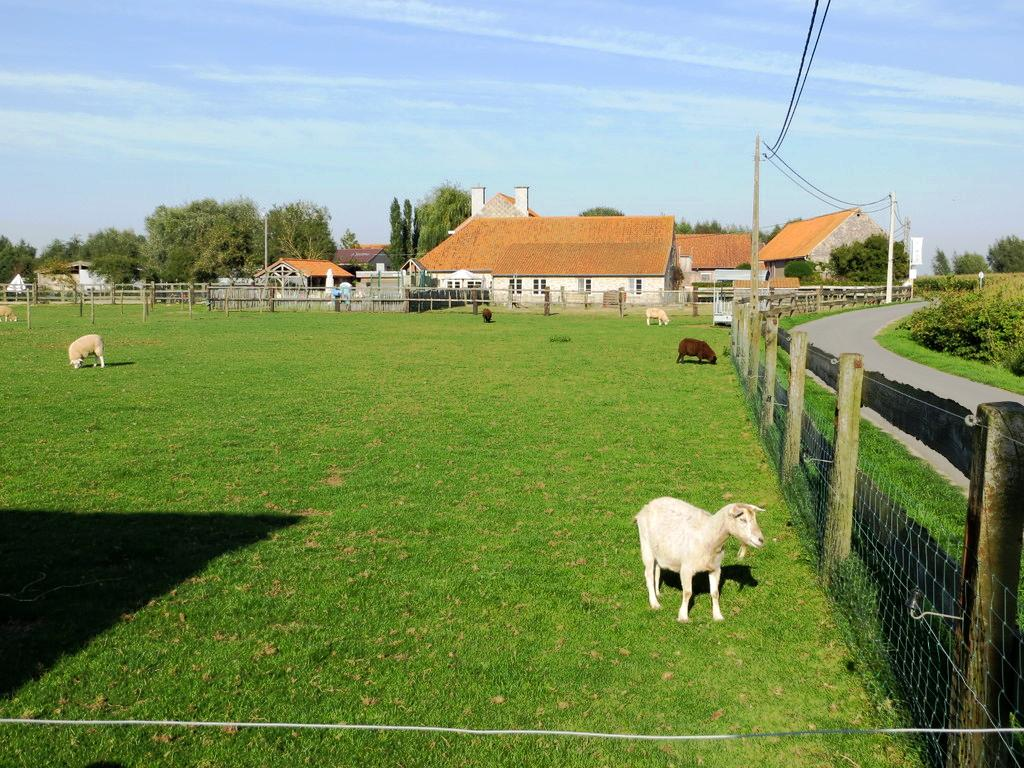Sheep: (68, 335, 106, 370), (675, 340, 717, 368), (644, 306, 669, 326), (0, 305, 17, 322), (482, 307, 494, 325)
